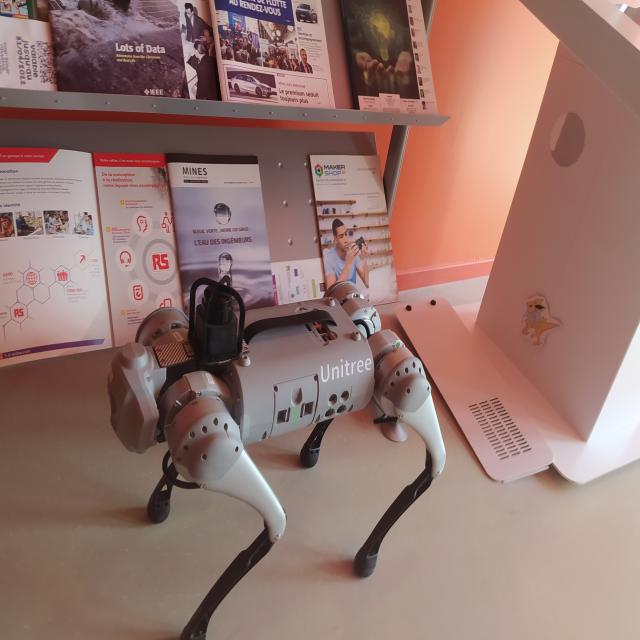unitree-go1-robot: (99, 261, 453, 640)
